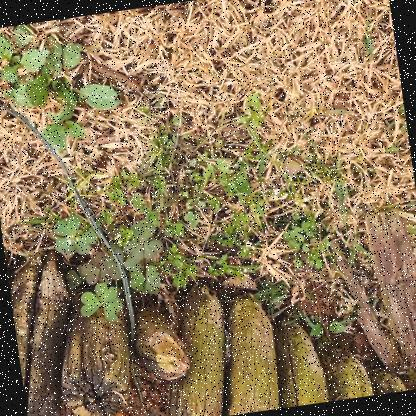Weeds: (0, 33, 122, 126), (0, 22, 53, 90), (76, 280, 125, 329), (49, 213, 100, 260), (40, 111, 87, 155), (122, 218, 165, 263), (79, 249, 124, 287), (127, 263, 166, 296)
